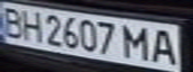0: (78, 17, 100, 53)
2: (42, 11, 63, 47)
6: (60, 15, 81, 51)
7: (93, 19, 121, 56)
A: (148, 26, 184, 65)
B: (0, 4, 27, 38)
H: (18, 8, 45, 43)
M: (121, 22, 154, 61)
